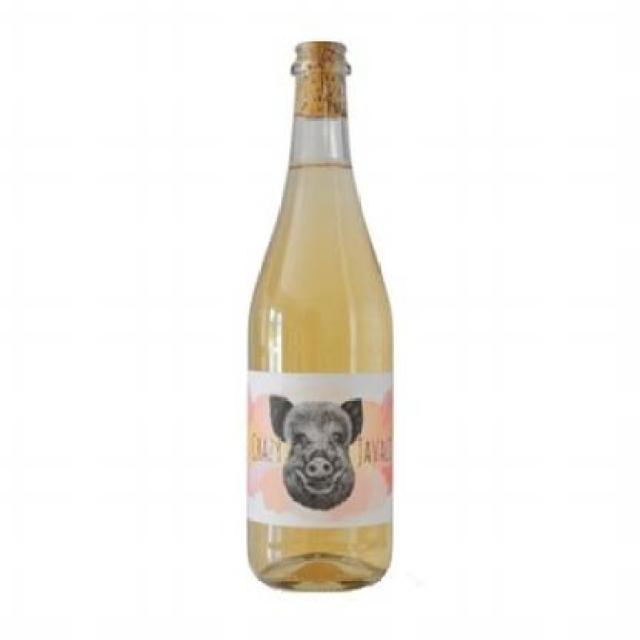wildboar: (268, 395, 362, 511)
